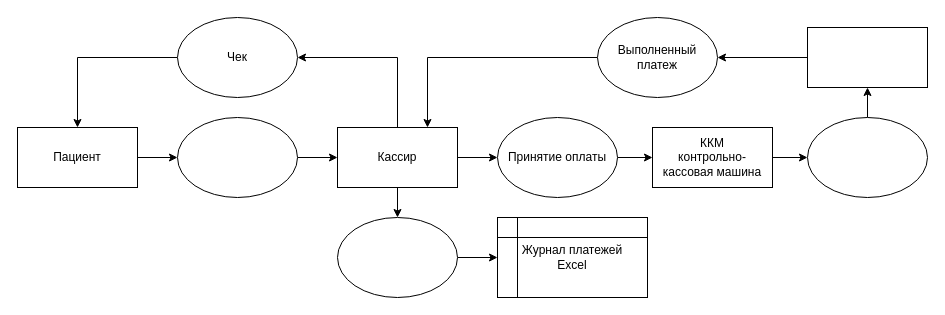
This 945x315 diagram has some shape labels left out. Here are the shapes that lost their labels. From the top down, the box of each, then its label:
(806, 26, 928, 88): 1С Бухгалтерия
(176, 116, 298, 198): Оплата услуг
(806, 116, 928, 198): Информация о принятии оплаты
(336, 216, 458, 298): Информация о платеже
